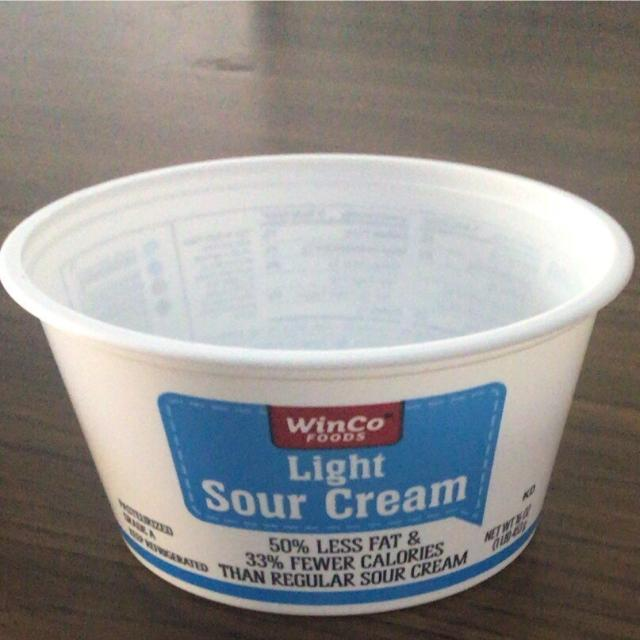plastic: (1, 154, 640, 620)
